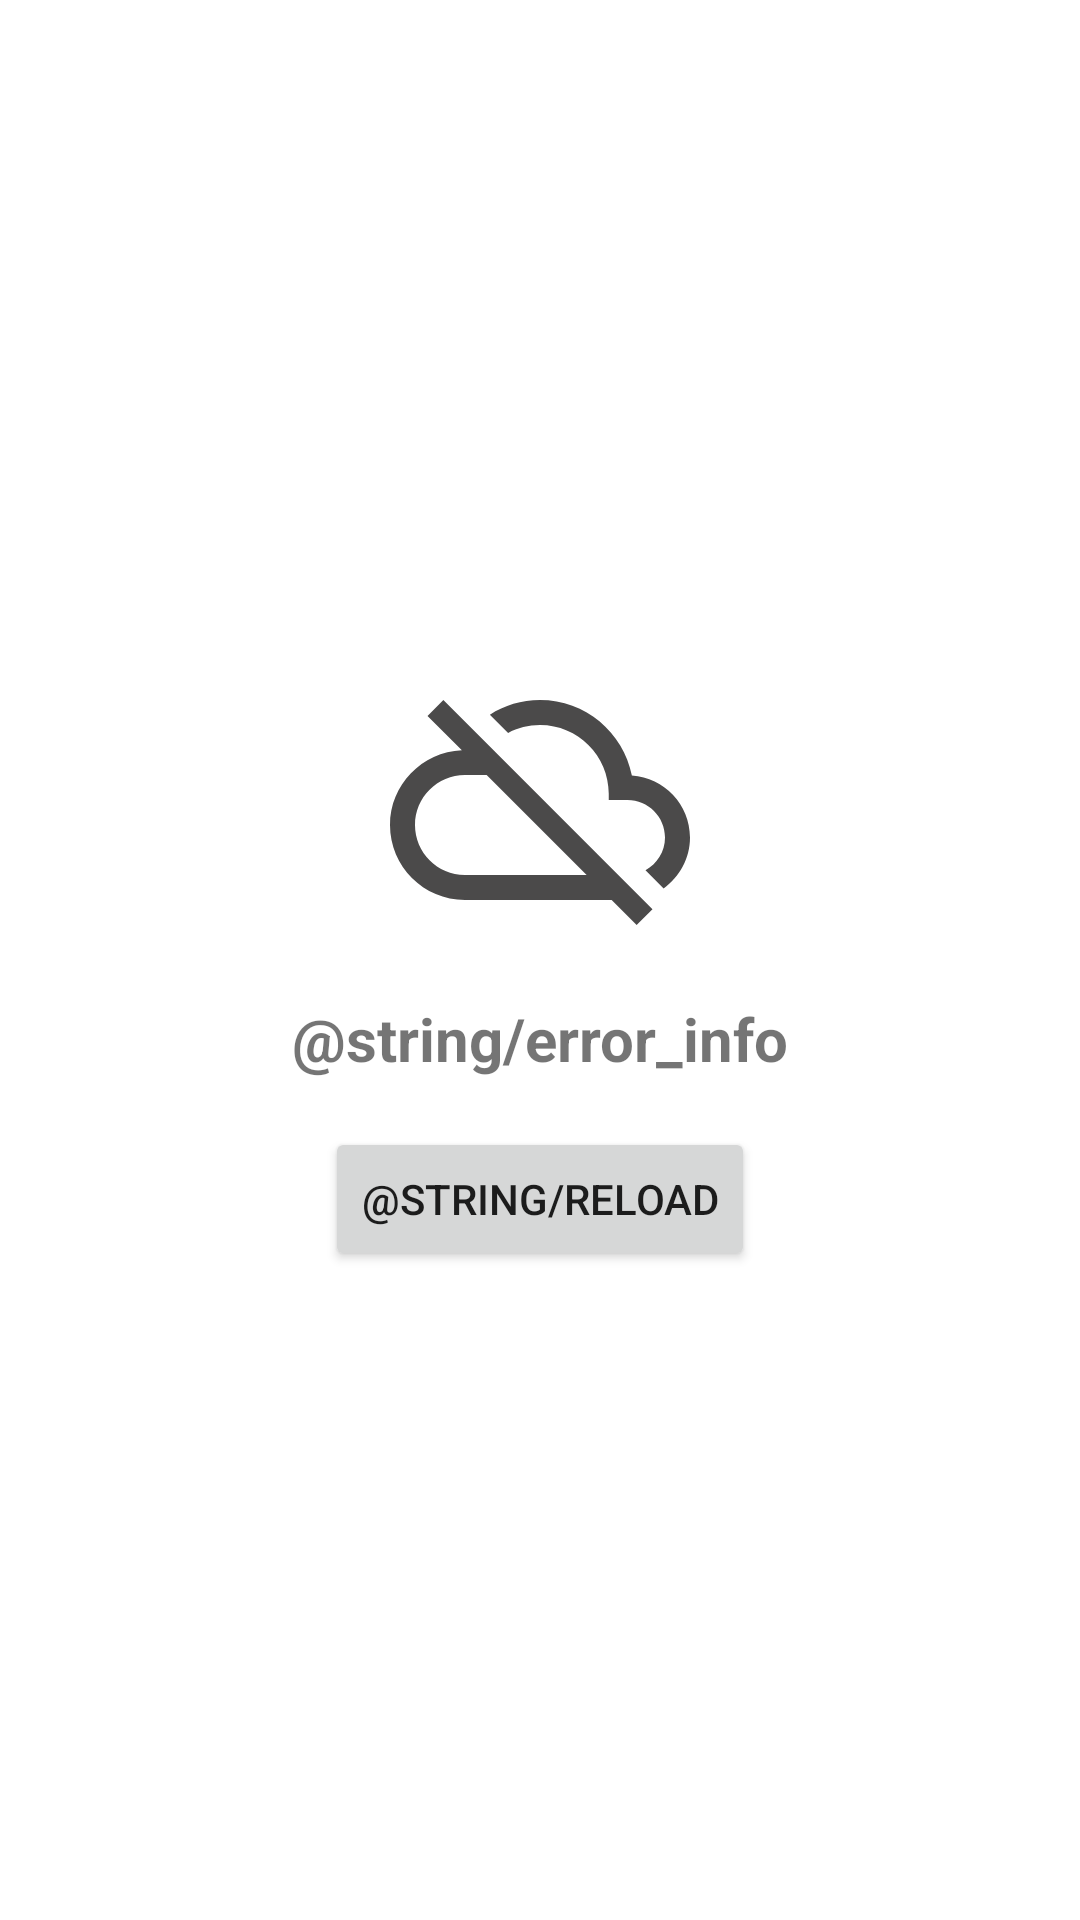

Named icons in this screenshot (1080*1920) and their bounding boxes, (x1, y1, x2, y2):
cloud off: (390, 700, 690, 925)
